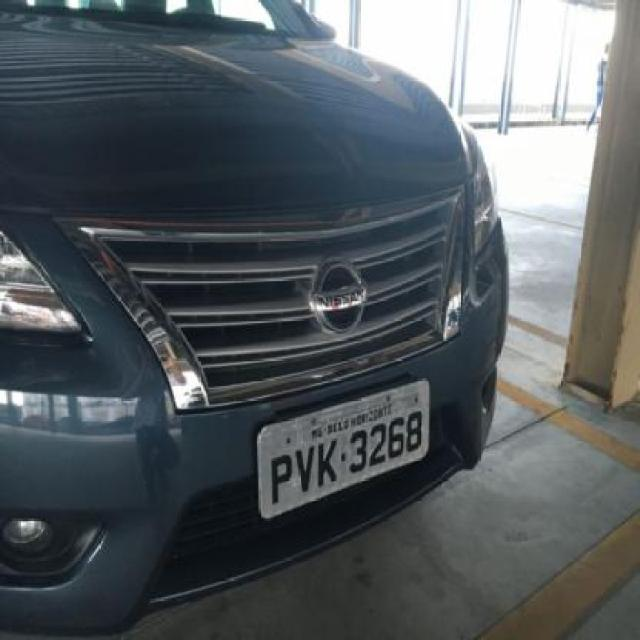old_plate: (248, 372, 439, 526)
